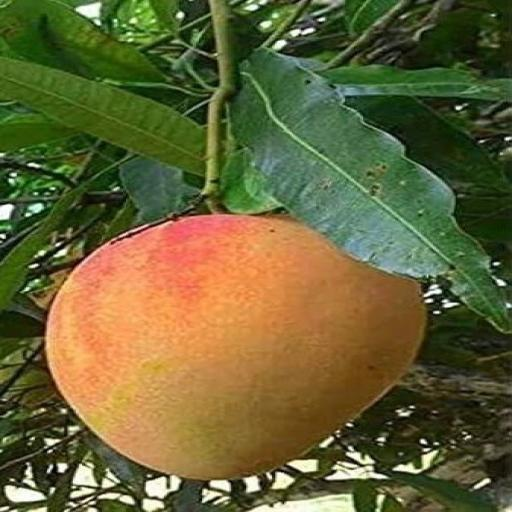mango: (48, 216, 425, 479)
